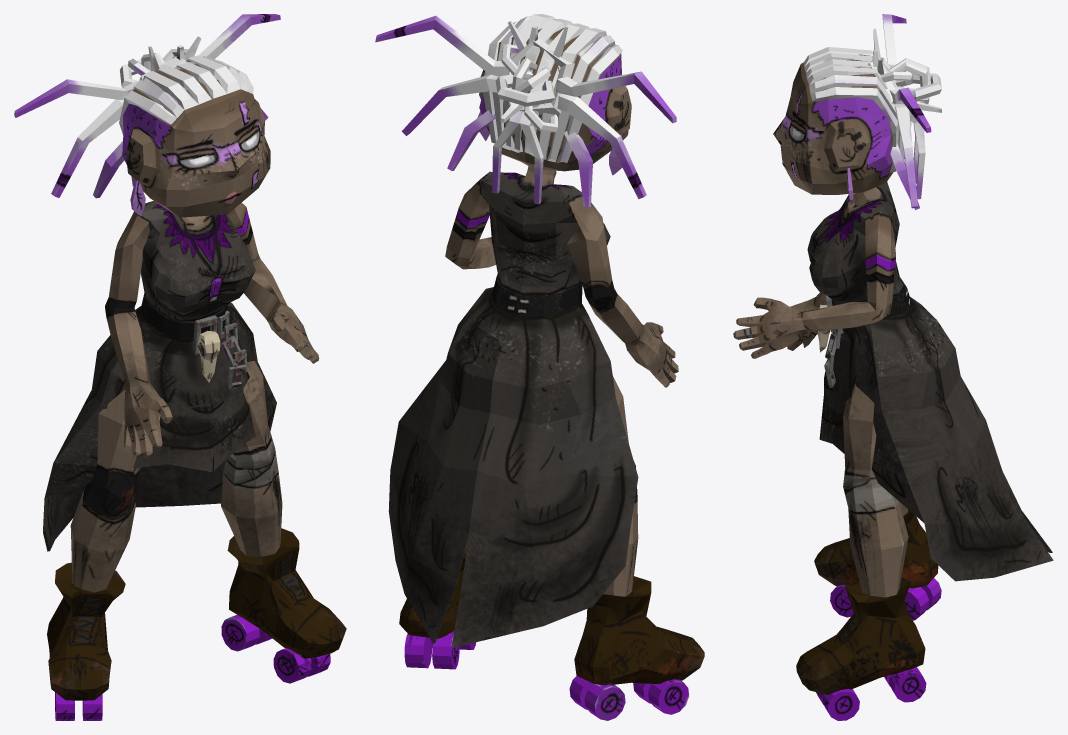
The model's file is bruja_000009.obj.
3 renders of one model, left to right at view 1: azimuth 30°, elevation 25°; view 2: azimuth 150°, elevation 25°; view 3: azimuth 270°, elevation 25°, orthographic. The views are drawn at different scales.
Parts seen in each view (by area): view 1: Bruja_Plane.001; view 2: Bruja_Plane.001; view 3: Bruja_Plane.001.
Part boxes in pixels (<box>): Bruja_Plane.001: <box>14,14,346,720</box>; Bruja_Plane.001: <box>375,14,704,720</box>; Bruja_Plane.001: <box>733,14,1053,720</box>.
Bounding box in the file's own units: 7.65 × 16.57 × 7.74.
